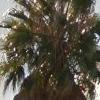Palm tree: (6, 3, 97, 94)
